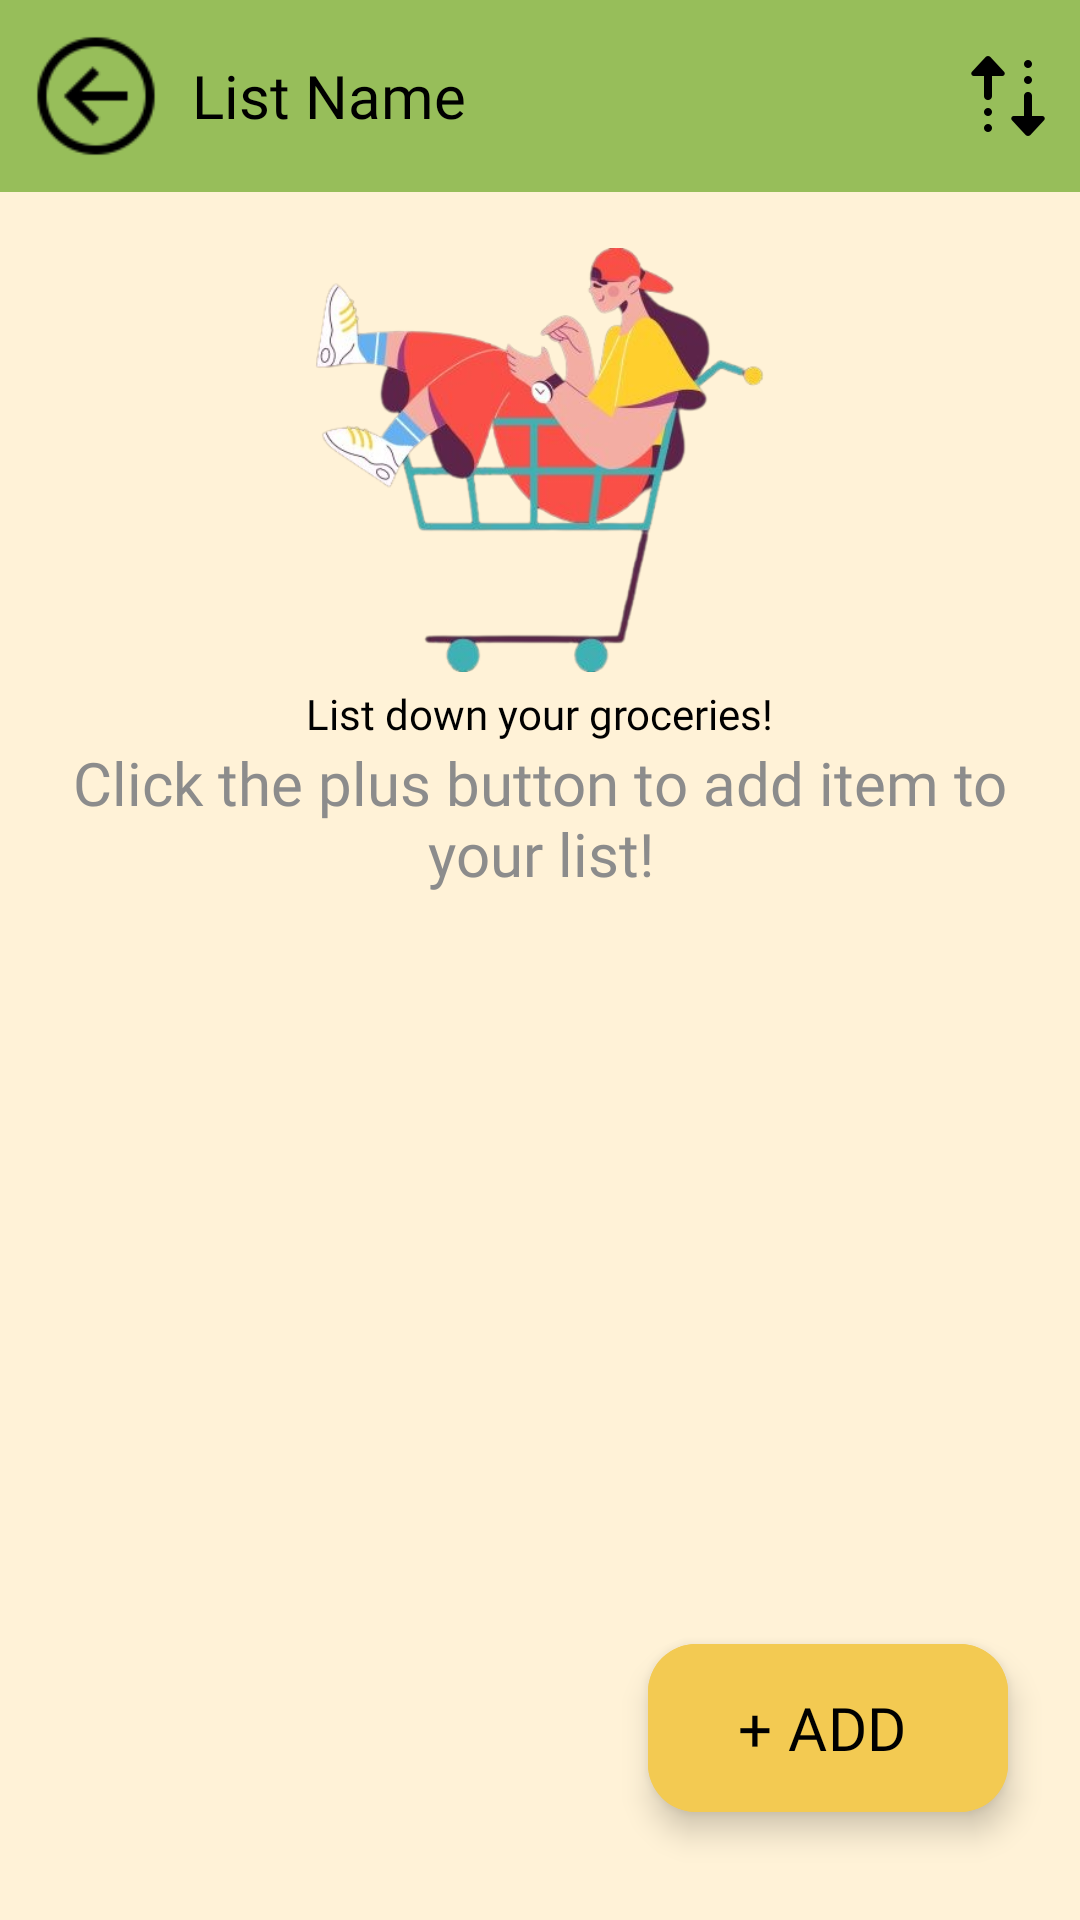

Icon bounding boxes for this 1080 x 1920 phone screenshot, format bbox=[x1, y1, x2, y2]:
back arrow: bbox=[37, 37, 155, 155]
sort: bbox=[971, 56, 1045, 136]
